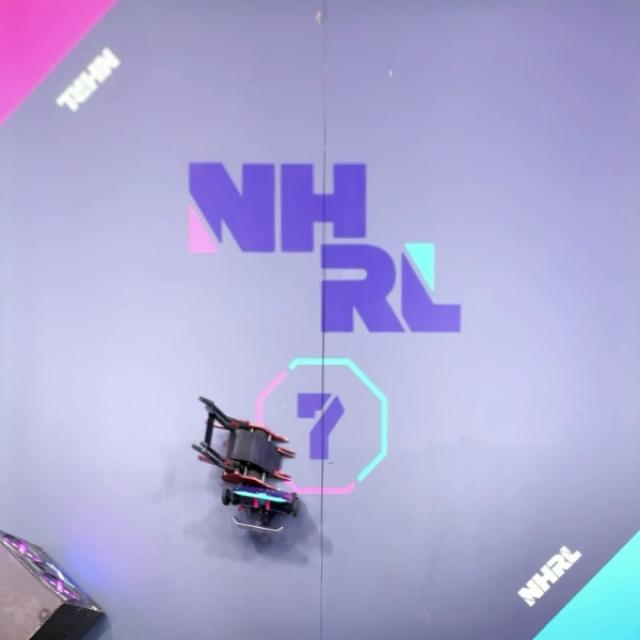housebot: (0, 528, 108, 640)
robot: (191, 394, 296, 494), (220, 486, 301, 536)
